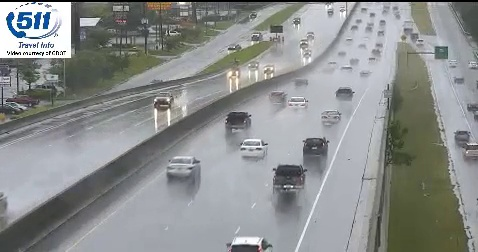car: (273, 164, 305, 191), (167, 156, 199, 177), (240, 138, 267, 158), (302, 138, 327, 156), (225, 111, 249, 128), (321, 110, 340, 123)
